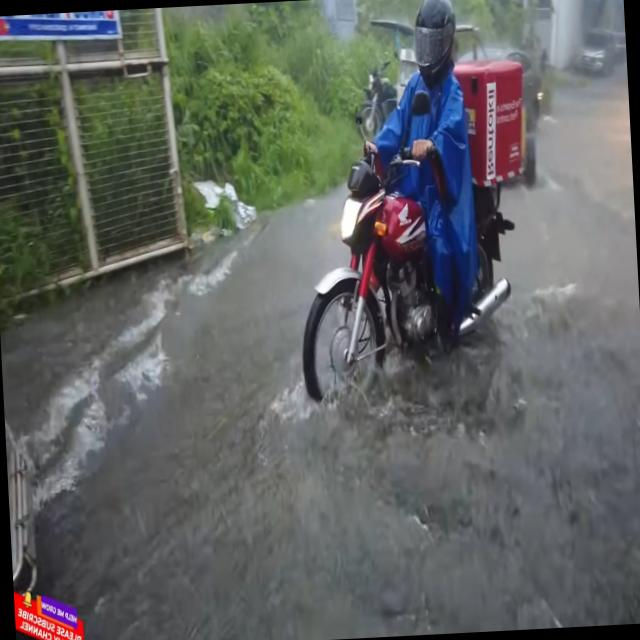full: (409, 0, 464, 93)
